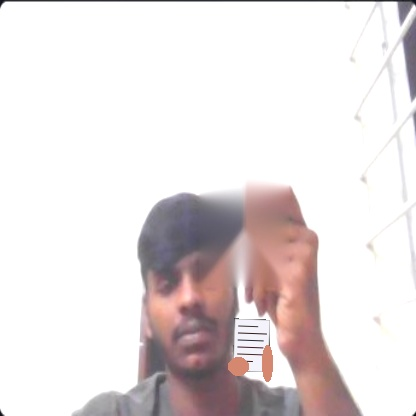cheat_chit: (233, 318, 270, 372)
